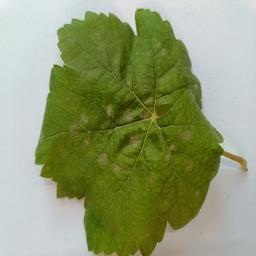Powdery-Mildew: (123, 98, 157, 124), (118, 130, 144, 159), (164, 142, 180, 159), (97, 100, 113, 116), (66, 124, 82, 140), (97, 154, 113, 170)
